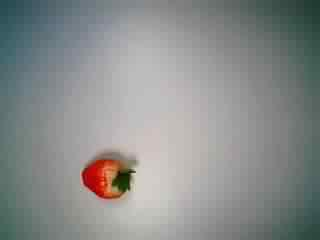strawberry: (75, 141, 143, 205)
